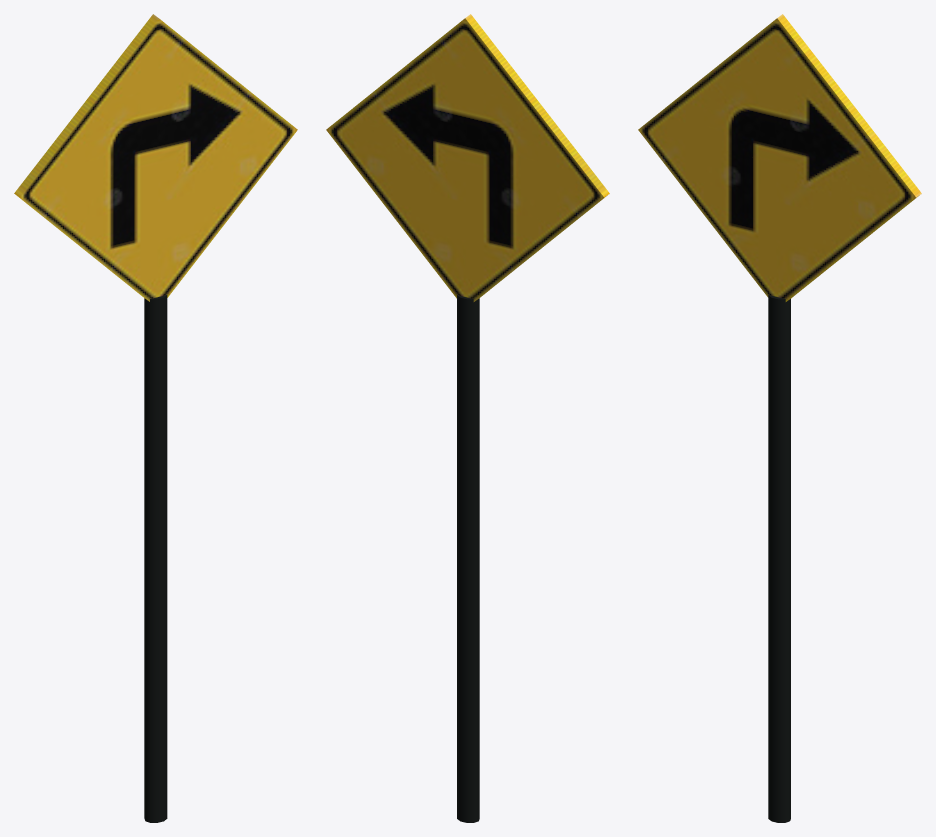
File: cartelFlecha.DAE
3 renders of one model, left to right at view 1: azimuth 30°, elevation 25°; view 2: azimuth 150°, elevation 25°; view 3: azimuth 330°, elevation 25°, orthographic.
Parts seen in each view (by area): view 1: cartelFlecha; view 2: cartelFlecha; view 3: cartelFlecha.
Boxes of the visible parts, x1,y1,x2,y2 form: cartelFlecha: [14, 14, 297, 822]; cartelFlecha: [326, 14, 609, 822]; cartelFlecha: [638, 14, 921, 822].
Size of the model in its own units: 0.8359 by 0.0494 by 2.3.
